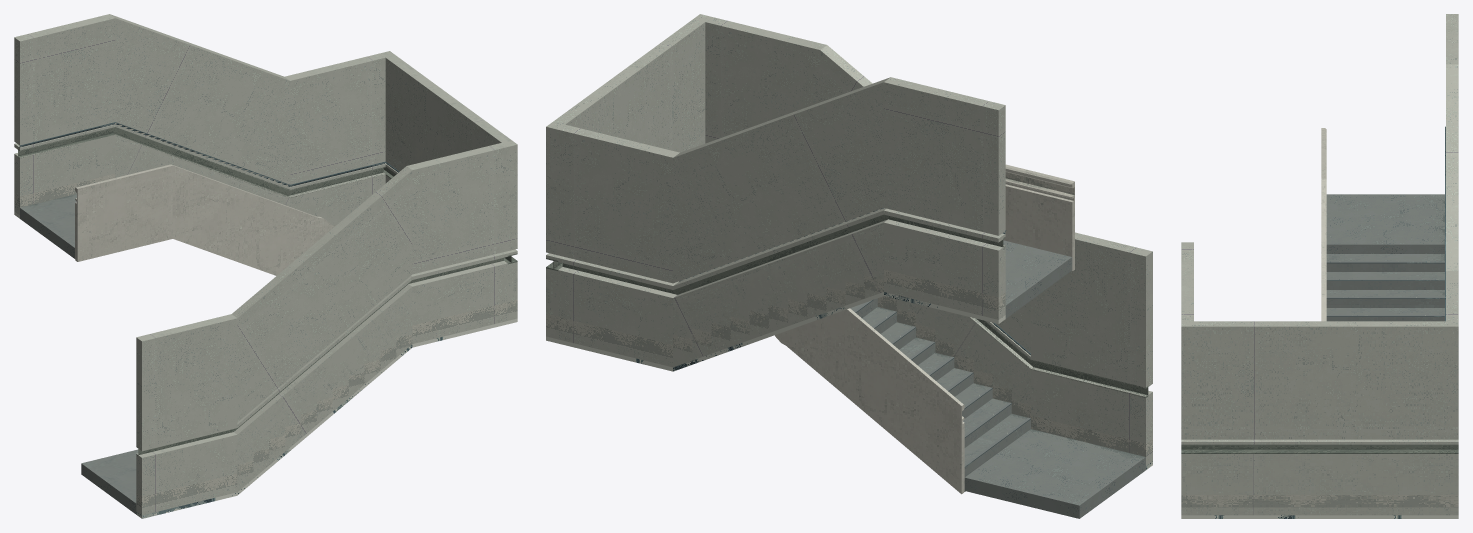
Rendered from cryo_handrail_age_v2.glb.
3 renders of one model, left to right at view 1: azimuth 30°, elevation 25°; view 2: azimuth 150°, elevation 25°; view 3: azimuth 270°, elevation 25°, orthographic. The views are drawn at different scales.
Parts seen in each view (by area): view 1: Wall_Lower_Run_Upper, Wall_Upper_Run_Upper, C_Guard_UpperAndFloor, Wall_Lower_Entry_Upper, Wall_Lower_Run_Base, Wall_Upper_Floor_Upper, Wall_Turn_LowerReturn_Upper, Wall_Turn_UpperReturn_Upper, Wall_Turn_Upper, Wall_Lower_Entry_Base, Wall_Turn_LowerReturn_Base, Wall_Upper_Floor_Base (+10 smaller); view 2: Wall_Upper_Run_Upper, Wall_Upper_Floor_Upper, Wall_Turn_UpperReturn_Upper, Wall_Upper_Run_Base, Wall_Lower_Entry_Upper, C_Guard_LowerAndReturn, Wall_Turn_Upper, Wall_Turn_LowerReturn_Upper, EntryLanding, Wall_Upper_Floor_Base, Wall_Turn_UpperReturn_Base, Wall_Lower_Entry_Base (+12 smaller); view 3: Wall_Turn_Upper, Wall_Turn_Lower, Upper_ClosedFlight, FloorLanding, Wall_Upper_Run_Upper, Wall_Turn_Middle, Wall_Turn_GripLowerLip, Wall_Turn_GripBack, C_Guard_UpperAndFloor, Wall_Turn_FootBand, Wall_Upper_Floor_Upper, Wall_Turn_LowerReturn_Upper (+3 smaller).
Part boxes in pixels (box(x1,y1,x2,y2)): Wall_Lower_Run_Upper: box(232, 166, 412, 422); Wall_Upper_Run_Upper: box(110, 14, 290, 184); C_Guard_UpperAndFloor: box(75, 164, 334, 275); Wall_Lower_Entry_Upper: box(136, 314, 237, 451); Wall_Lower_Run_Base: box(234, 284, 412, 491); Wall_Upper_Floor_Upper: box(14, 14, 115, 145); Wall_Turn_LowerReturn_Upper: box(407, 143, 507, 274); Wall_Turn_UpperReturn_Upper: box(285, 53, 385, 184); Wall_Turn_Upper: box(380, 51, 517, 250); Wall_Lower_Entry_Base: box(136, 432, 237, 515); Wall_Turn_LowerReturn_Base: box(409, 261, 507, 343); Wall_Upper_Floor_Base: box(14, 135, 115, 214); Wall_Upper_Run_Upper: box(673, 77, 890, 283); Wall_Upper_Floor_Upper: box(884, 77, 1005, 235); Wall_Turn_UpperReturn_Upper: box(558, 124, 679, 283); Wall_Upper_Run_Base: box(673, 219, 887, 367); Wall_Lower_Entry_Upper: box(1031, 232, 1152, 388); C_Guard_LowerAndReturn: box(775, 308, 964, 494); Wall_Turn_Upper: box(546, 14, 711, 255); Wall_Turn_LowerReturn_Upper: box(705, 17, 826, 143); EntryLanding: box(964, 429, 1145, 518); Wall_Upper_Floor_Base: box(884, 219, 1005, 319); Wall_Turn_UpperReturn_Base: box(558, 267, 676, 367); Wall_Lower_Entry_Base: box(1031, 367, 1152, 465); Wall_Turn_Upper: box(1181, 321, 1458, 439); Wall_Turn_Lower: box(1181, 454, 1458, 515); Upper_ClosedFlight: box(1326, 254, 1444, 321); FloorLanding: box(1326, 194, 1444, 253); Wall_Upper_Run_Upper: box(1446, 64, 1458, 270); Wall_Turn_Middle: box(1181, 439, 1458, 444); Wall_Turn_GripLowerLip: box(1181, 449, 1458, 453); Wall_Turn_GripBack: box(1181, 445, 1458, 449); C_Guard_UpperAndFloor: box(1321, 128, 1326, 321); Wall_Turn_FootBand: box(1181, 515, 1458, 518); Wall_Upper_Floor_Upper: box(1446, 14, 1458, 64); Wall_Turn_LowerReturn_Upper: box(1181, 271, 1193, 321).
Size of the model in its own units: 7.09 by 7.02 by 4.18.
40 materials, 40 textured.
